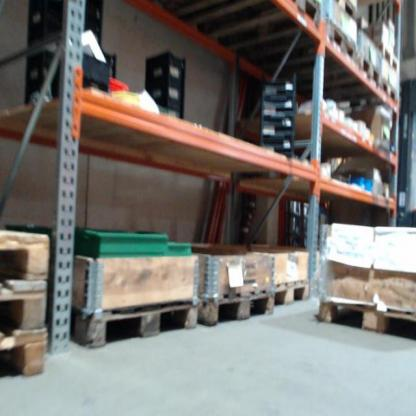pallet: (69, 295, 199, 351), (194, 3, 325, 41), (320, 298, 416, 339), (198, 286, 274, 332), (1, 334, 50, 393), (1, 282, 51, 334), (2, 229, 51, 282), (322, 24, 354, 71), (373, 38, 402, 79), (273, 279, 309, 307), (326, 1, 362, 23), (357, 57, 378, 91), (380, 80, 399, 106)
